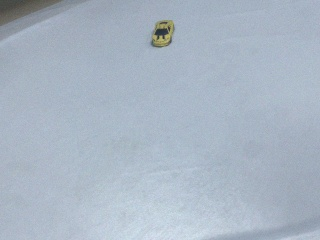toy_car: (151, 20, 174, 47)
